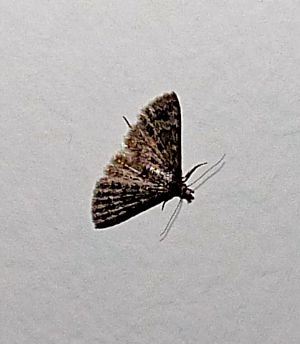Alucitidae: (90, 86, 227, 240)
moth: (88, 84, 225, 238)
